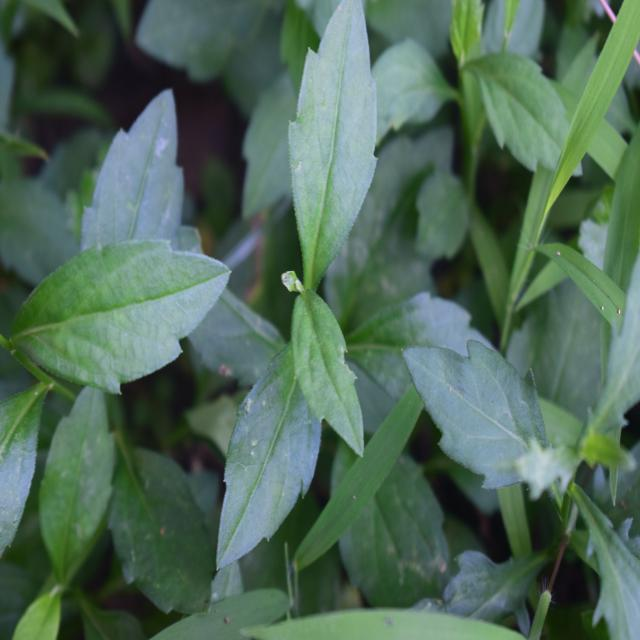Indian aster: (200, 33, 428, 528)
